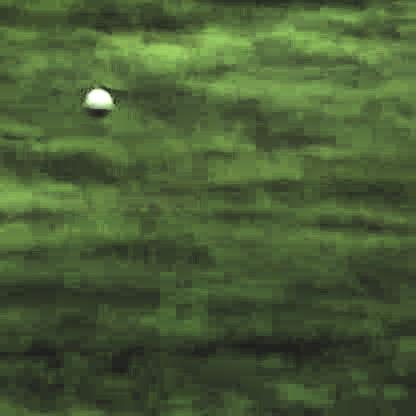golfball: (84, 85, 114, 113)
